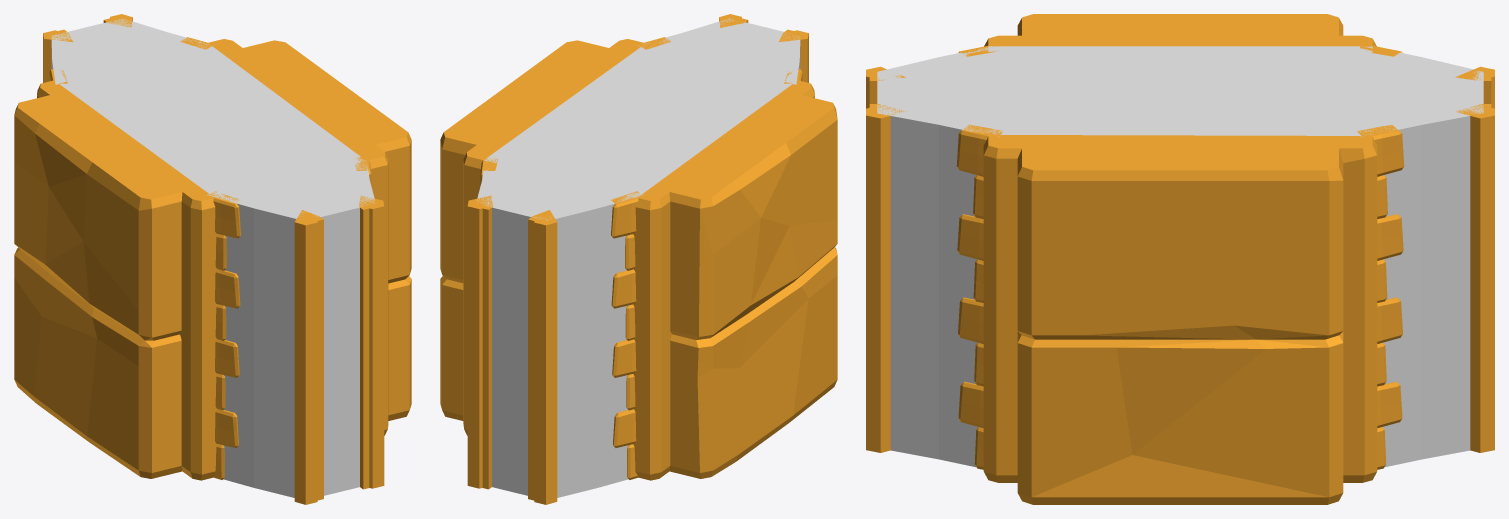
The model's file is SM_Bridge_Stone_Big_Support_B_Fantasy.fbx.
3 renders of one model, left to right at view 1: azimuth 30°, elevation 25°; view 2: azimuth 150°, elevation 25°; view 3: azimuth 270°, elevation 25°, orthographic. The views are drawn at different scales.
Parts seen in each view (by area): view 1: SM_Bridge_Stone_Big_Support_B_Fantasy; view 2: SM_Bridge_Stone_Big_Support_B_Fantasy; view 3: SM_Bridge_Stone_Big_Support_B_Fantasy.
Boxes of the visible parts, box(x1,y1,x2,y2) form: SM_Bridge_Stone_Big_Support_B_Fantasy: box(14, 14, 411, 504); SM_Bridge_Stone_Big_Support_B_Fantasy: box(440, 14, 837, 504); SM_Bridge_Stone_Big_Support_B_Fantasy: box(866, 14, 1494, 504).
Size of the model in its own units: 6.34 by 6 by 10.22.
